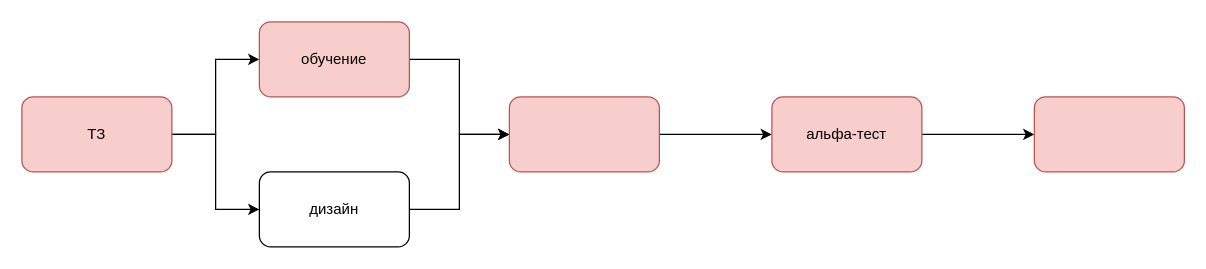
Image size: 1206x269. Some labels were removed from this diagram. Each missing label, with the centre of its shape:
"back-end" goes at point 583,134.
"бета-тест" goes at point 1108,134.
